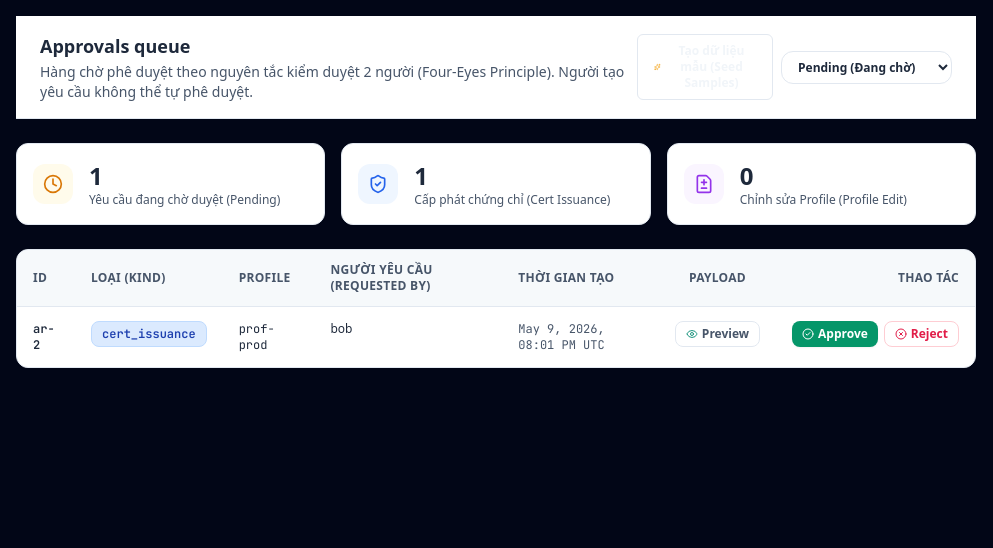
Scenario: ApprovalsPage › A-5 Preview button toggles the payload panel
Click the button with test id "approvals-preview-toggle-ar-2" at coordinates (717, 334), box [675,321,760,347]
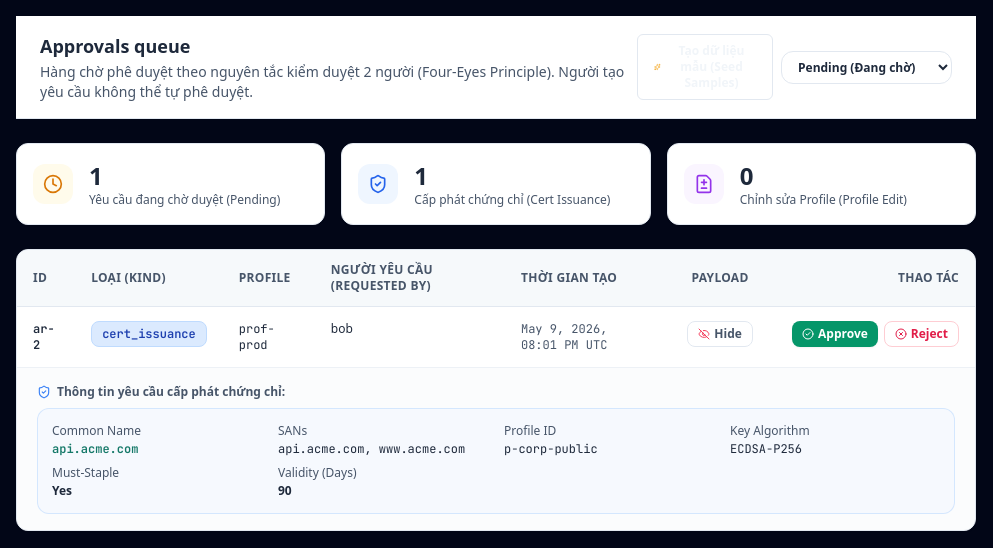
Now the row with test id "approvals-payload-preview-ar-2" is shown, box [17,368,975,530]
Now the element with test id "approval-cert-issuance-preview" is shown, box [52,423,940,499]
// Toggle off.
Click the button with test id "approvals-preview-toggle-ar-2" at coordinates (720, 334), box [687,321,753,347]
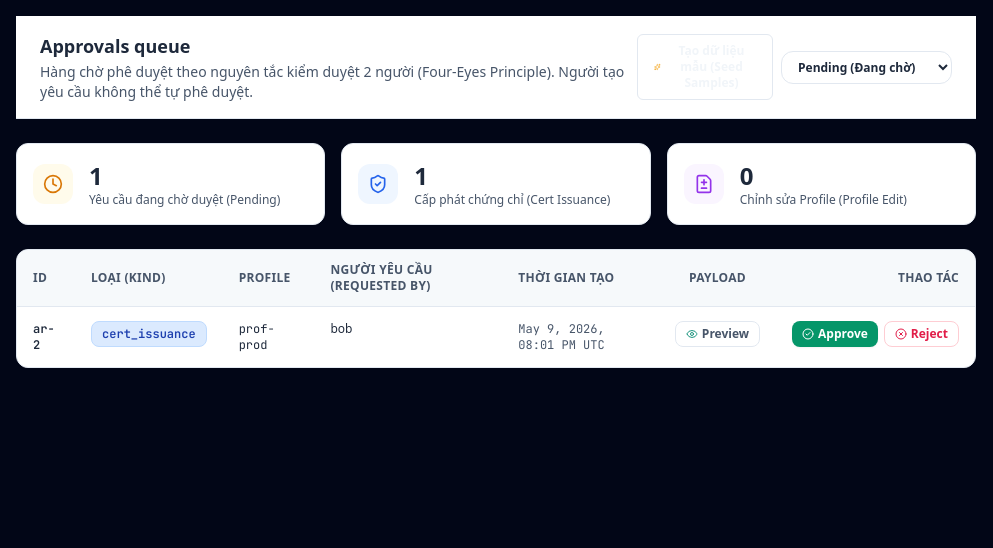
Now the row with test id "approvals-payload-preview-ar-2" is gone
